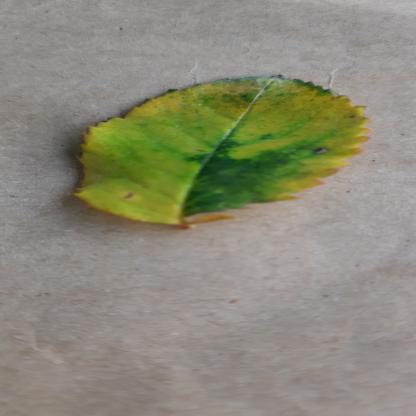black-spot: (71, 74, 376, 227)
